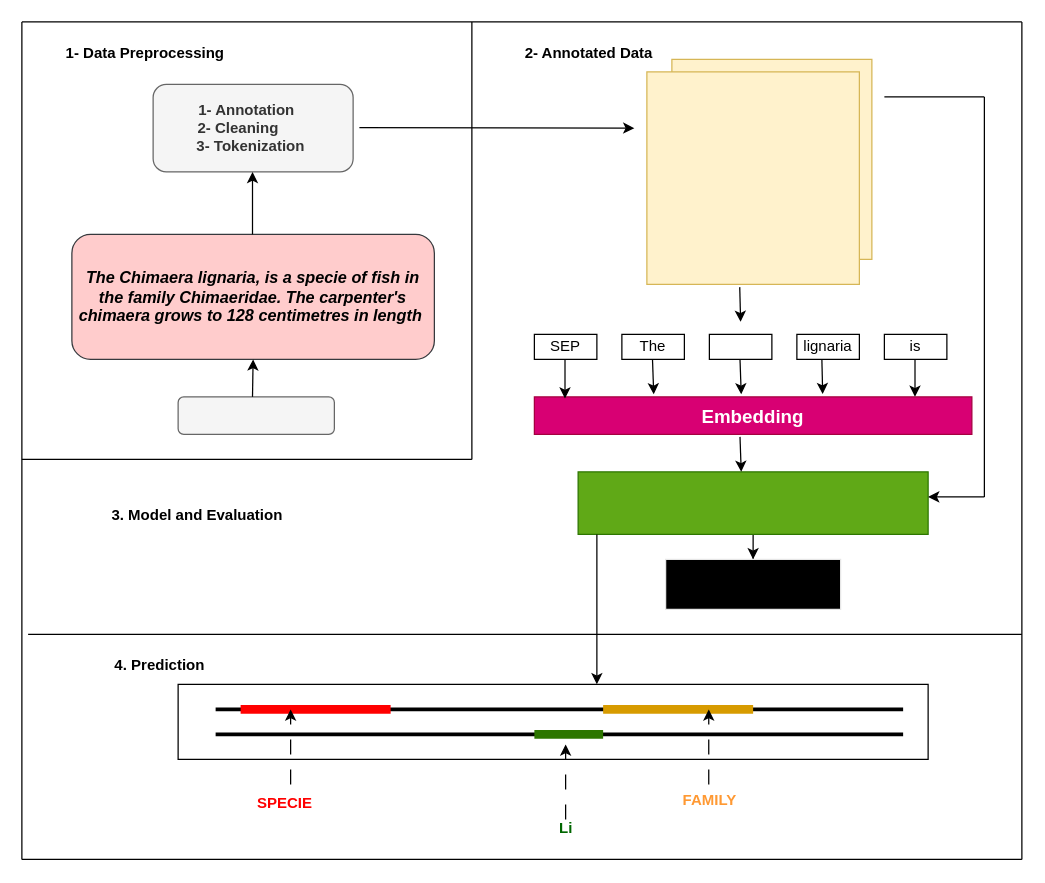
Some shapes in this 1045 by 883 pixel diagram are drawn without their labels. The shapes that lost their labels are listed below. From the top down, each one's box as (x1, y1, x2, y2) in pixels, then its label:
(646, 71, 859, 284): Tag Word O The B-Specie Chimaera I-Specie lignaria O is ... B-Li 123
(708, 333, 772, 359): Chimara
(177, 396, 334, 434): 1- Data Collection
(577, 471, 928, 534): Roberta Fine-Tuned Model
